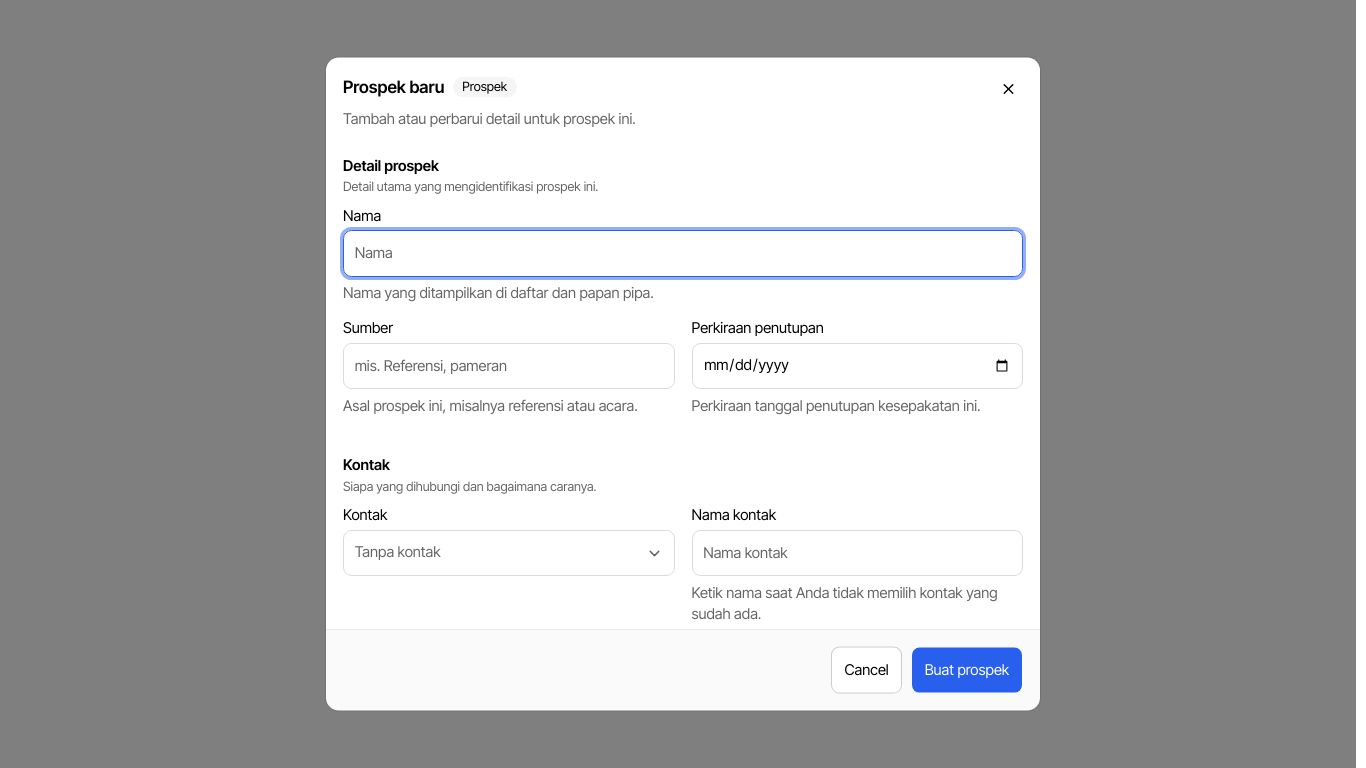
LeadFormDialog extra › requires a name before saving
Check: the field with placeholder "Nama" is shown, box [343,230,1023,276]
What coordinates should you click on to do the following:
click the button "Buat prospek"
I would click on:
 (967, 670)
Its box is [911,647,1023,693].
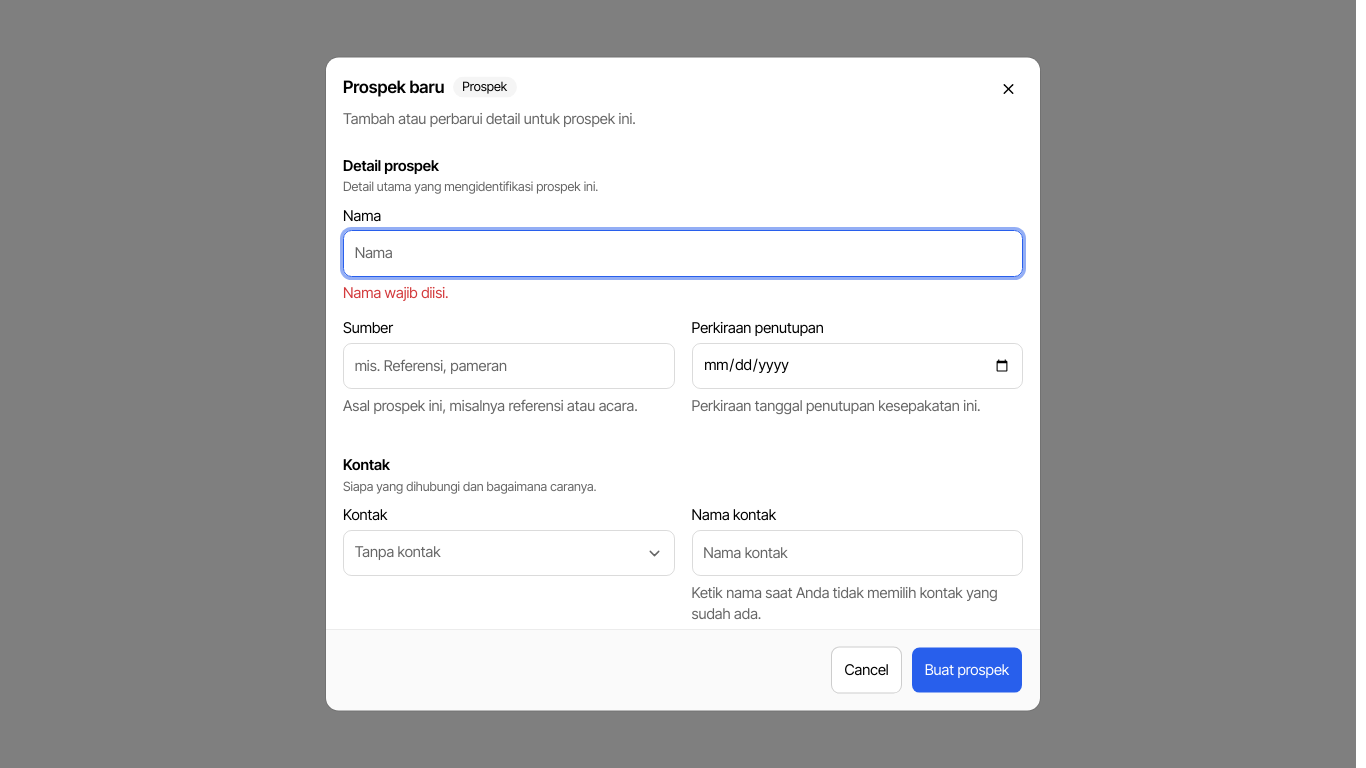
Check: the text "Nama wajib diisi." is shown, box [343,284,449,302]
